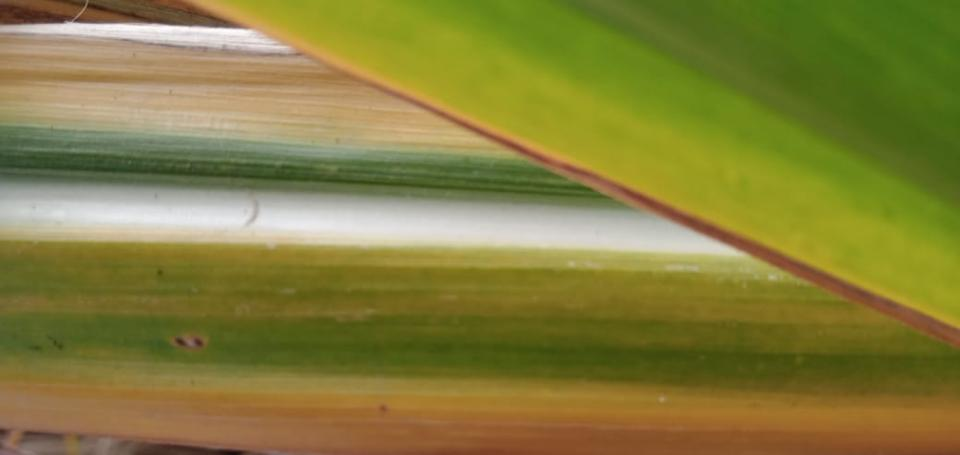Rust: (169, 336, 209, 349), (379, 404, 388, 413)
Yellow: (187, 0, 959, 352), (0, 382, 959, 454), (0, 25, 503, 150)
